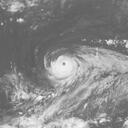cyclone: (44, 44, 85, 87)
